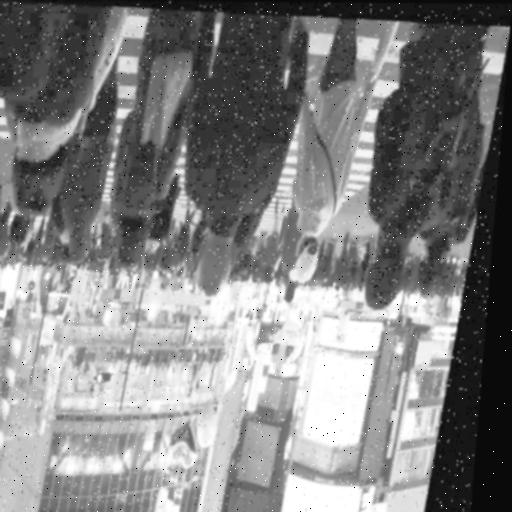balloon: (175, 417, 209, 461), (202, 400, 231, 442)
